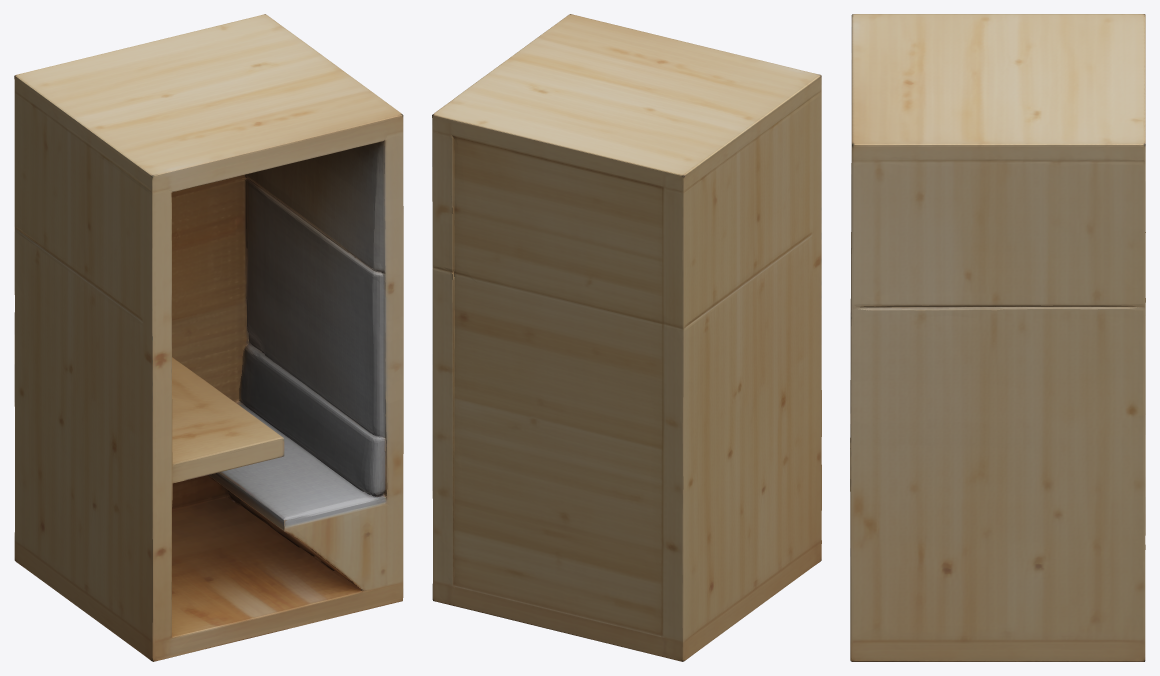
3 views of the same model, side by side, from view 1: azimuth 30°, elevation 25°; view 2: azimuth 150°, elevation 25°; view 3: azimuth 270°, elevation 25° (orthographic). The views are drawn at different scales.
Visible parts, largest first — view 1: world; view 2: world; view 3: world.
Part boxes in pixels (x1,y1,x2,y2): world: (14,14,403,661); world: (432,14,821,661); world: (850,14,1145,661).
Size of the model in its own units: 0.5429 by 1 by 0.5181.
Materials: 1 (1 with a texture image).
